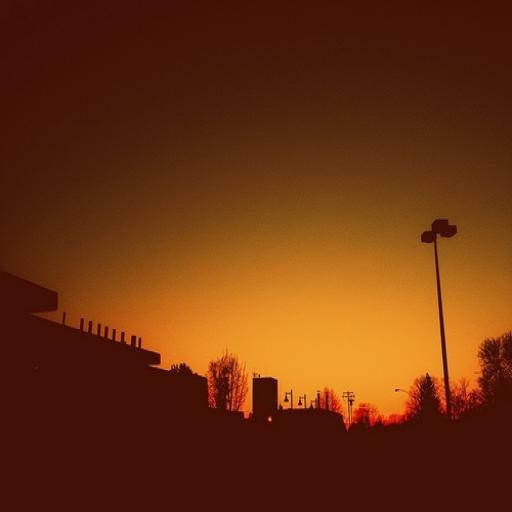off street light: (418, 202, 465, 416)
